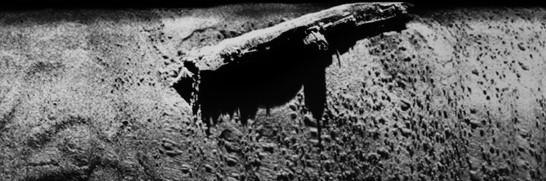ship: (171, 1, 411, 89)
